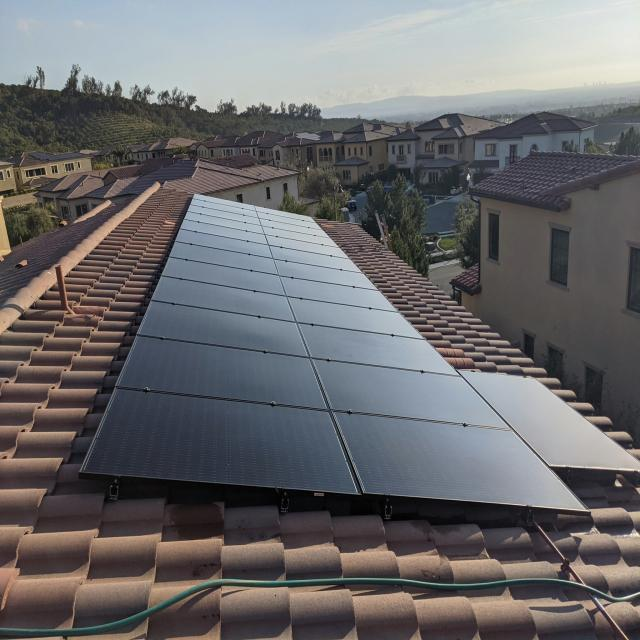clean-solar-panel: (84, 195, 586, 513)
